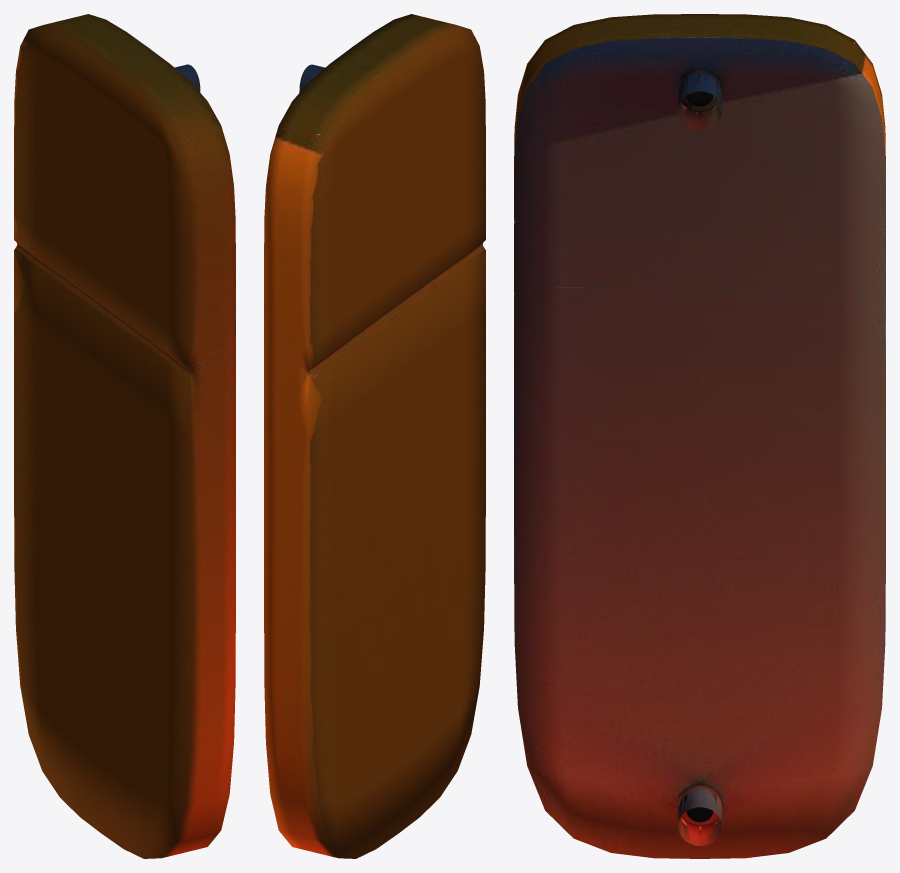
File: back.glb
3 views of the same model, side by side, from view 1: azimuth 30°, elevation 25°; view 2: azimuth 150°, elevation 25°; view 3: azimuth 270°, elevation 25° (orthographic). The views are drawn at different scales.
Parts seen in each view (by area): view 1: backmove; view 2: backmove; view 3: backmove.
Boxes of the visible parts, x1,y1,x2,y2 form: backmove: (14,14,235,858); backmove: (264,14,485,858); backmove: (514,14,885,858).
Size of the model in its own units: 0.123 by 1.01 by 0.415.
1 material, 1 textured.
